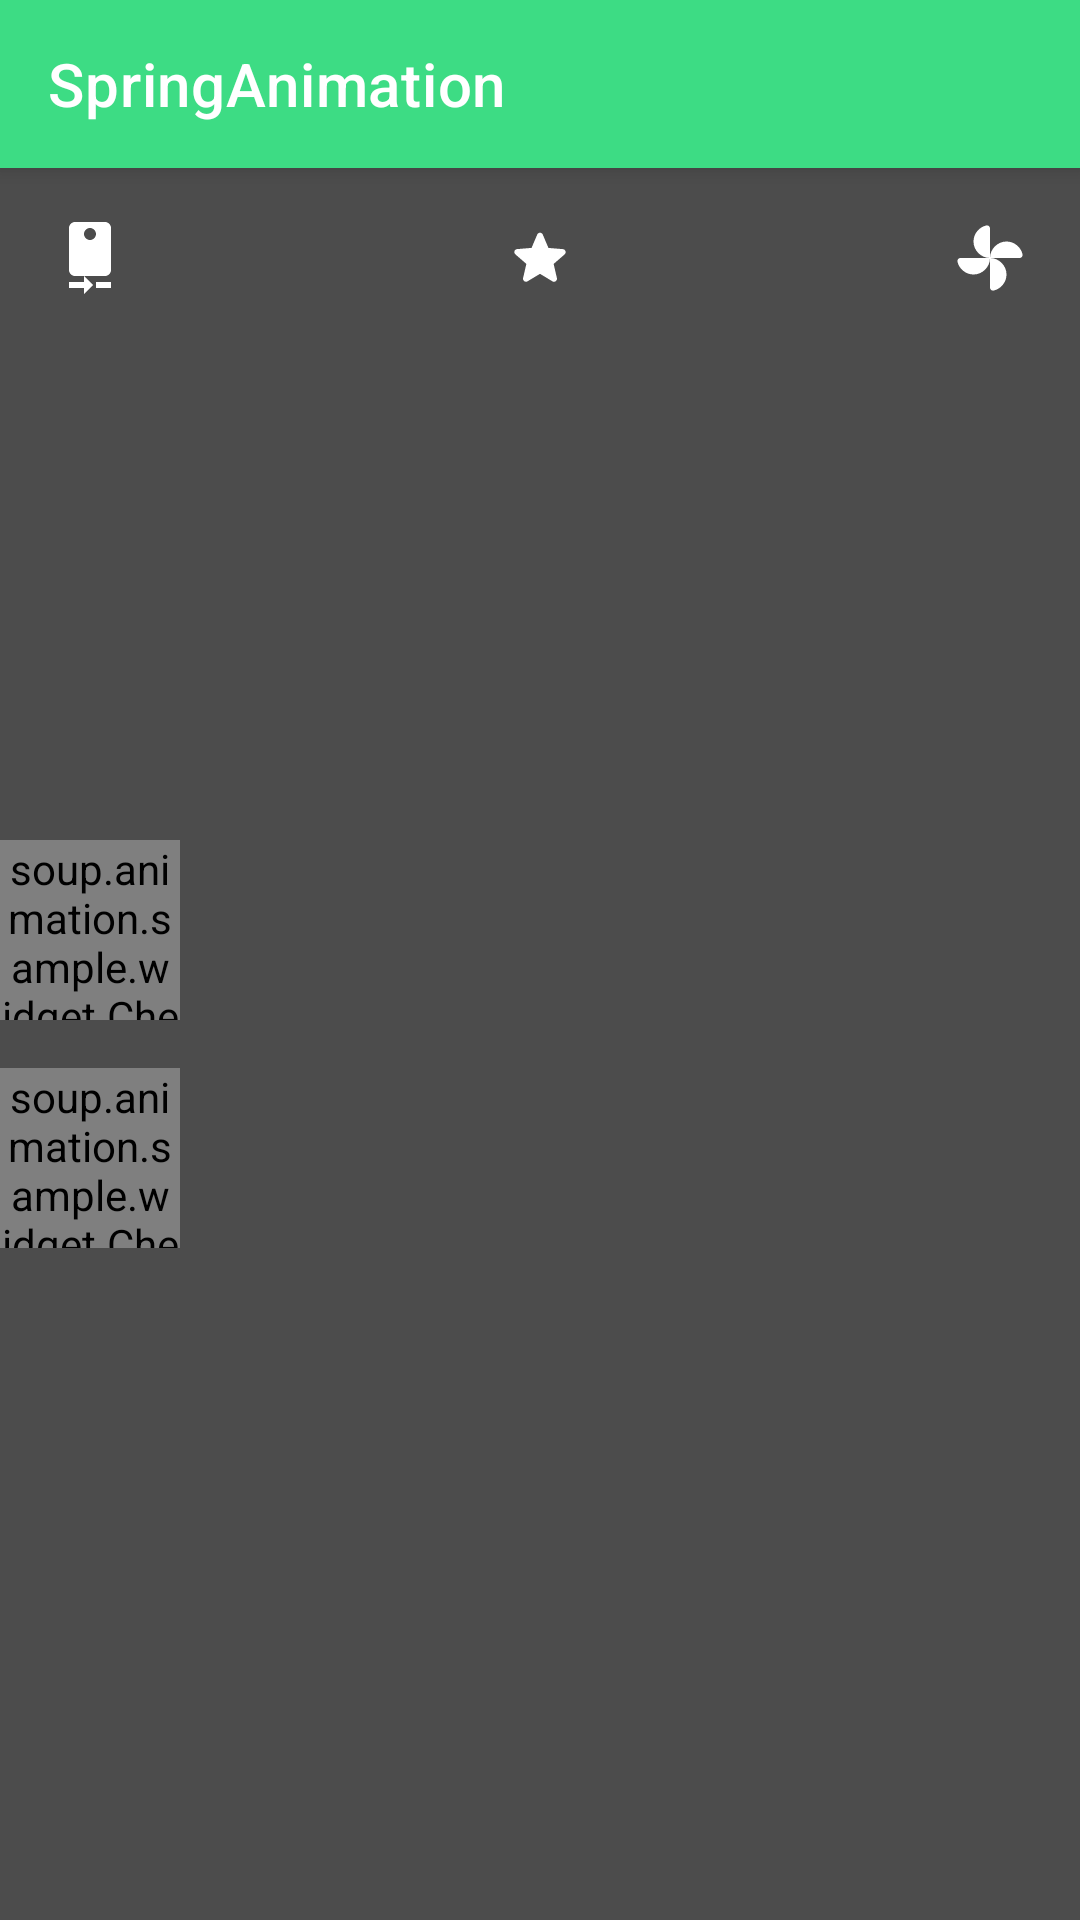

Where to tap for icons on this 1080px x 1920px app screen, as point (x, y):
facing back: point (90, 258)
star: point (540, 257)
toys: point (990, 258)
